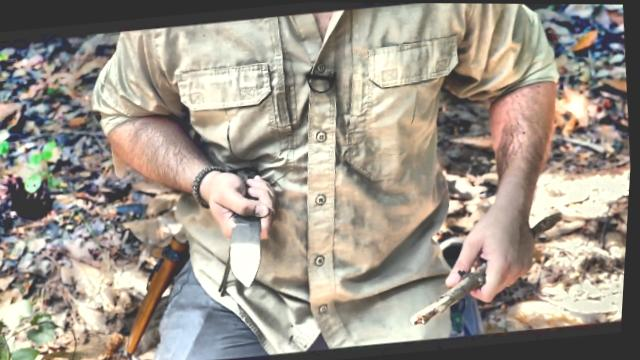knife: (206, 169, 296, 297)
